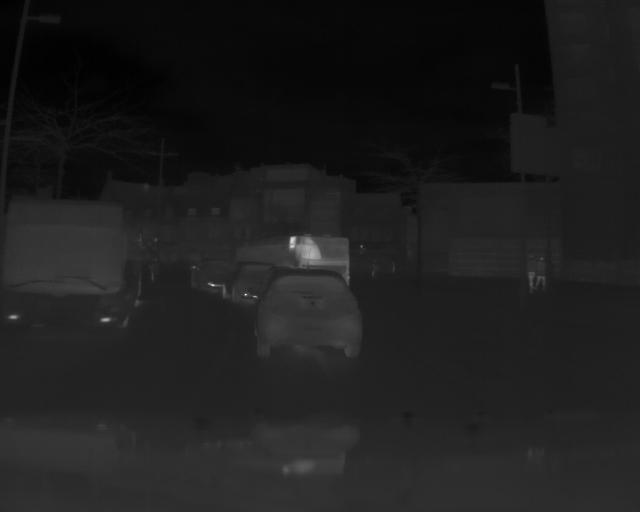car: (1, 189, 152, 351), (257, 266, 366, 368)
person: (521, 252, 535, 294), (537, 252, 550, 293)
